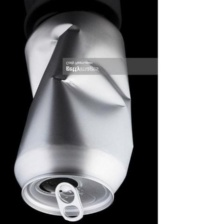can: (10, 5, 144, 223)
